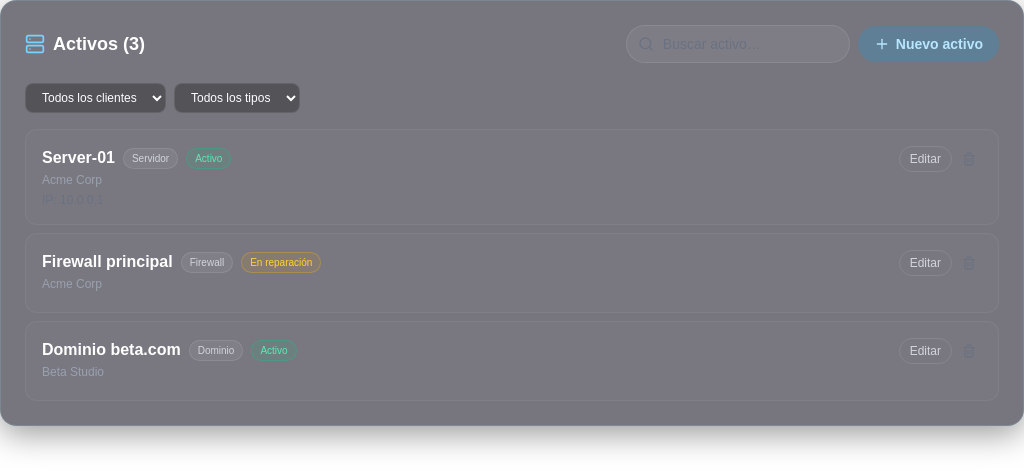
AssetsSection › shows an empty state when nothing matches
The image size is (1024, 471).
Type "no existe" into the field with placeholder "Buscar activo…" at point(738, 44), box [626,25,850,63]
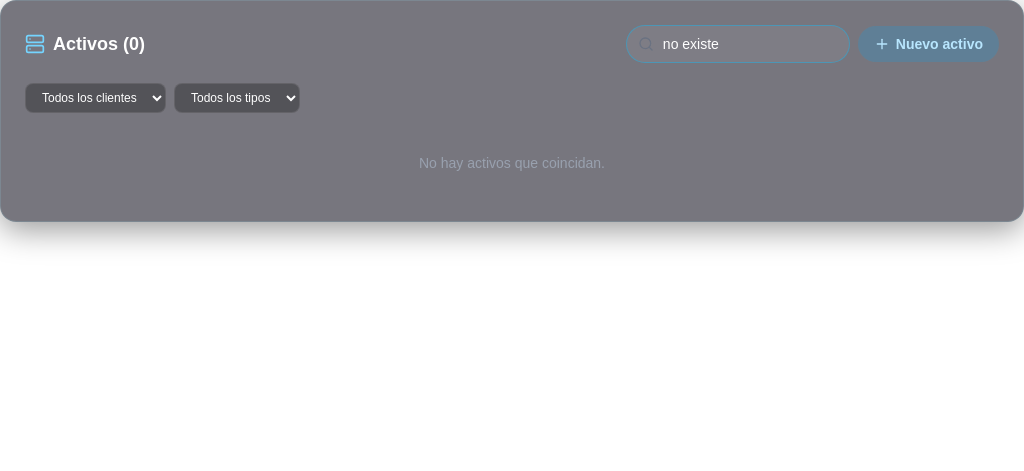
Result: the text "No hay activos que coincidan." is shown at [419,155,605,171]
